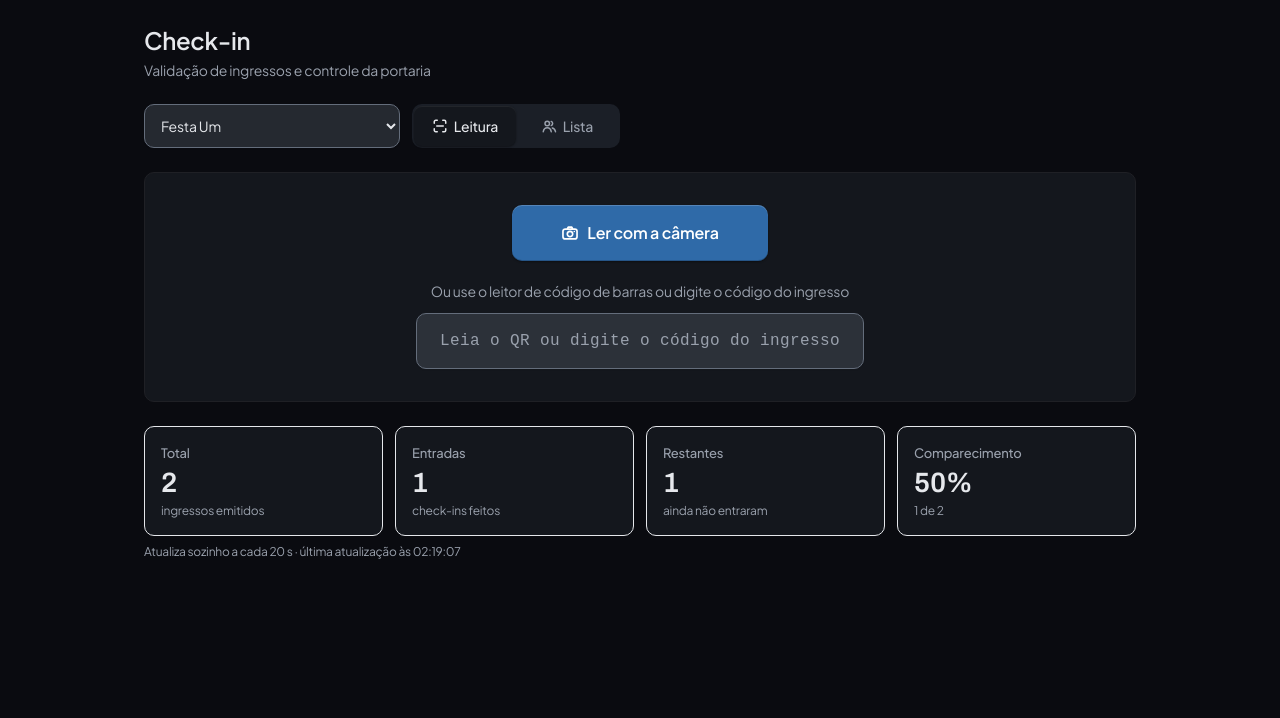
it: Check-in da equipe › tem câmera e números, mas sem cabeçalho do evento, sem Em breve e sem exportar CSV
Expected: the text "Comparecimento" is shown, top-left (914, 445), bottom-right (1022, 461)
Expected: the button "Ler com a câmera" is shown, top-left (512, 205), bottom-right (768, 261)
Click the radio button labelled "Lista" at (567, 126), box top-left (516, 106), bottom-right (618, 146)
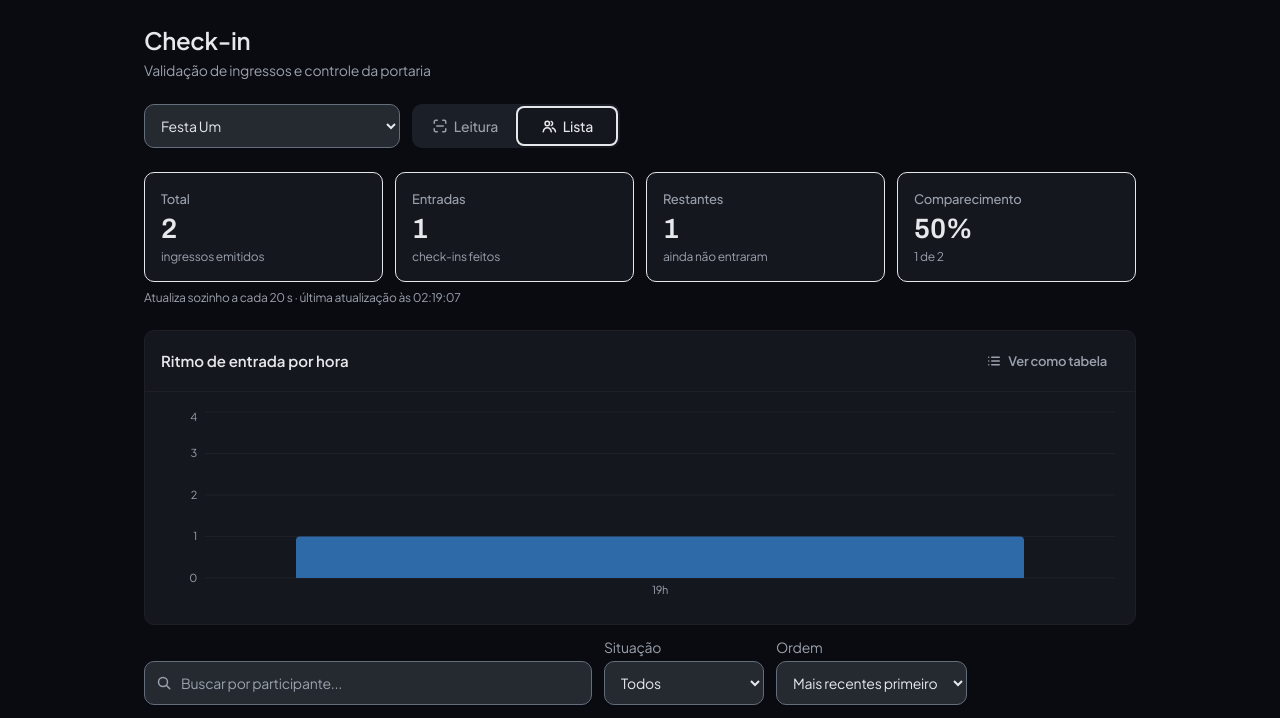
Now the element "Ritmo de entrada por hora" is shown, box top-left (144, 330), bottom-right (1136, 625)
